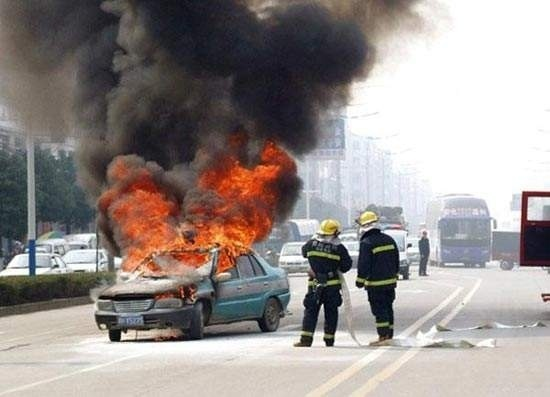fire: (100, 148, 297, 304)
